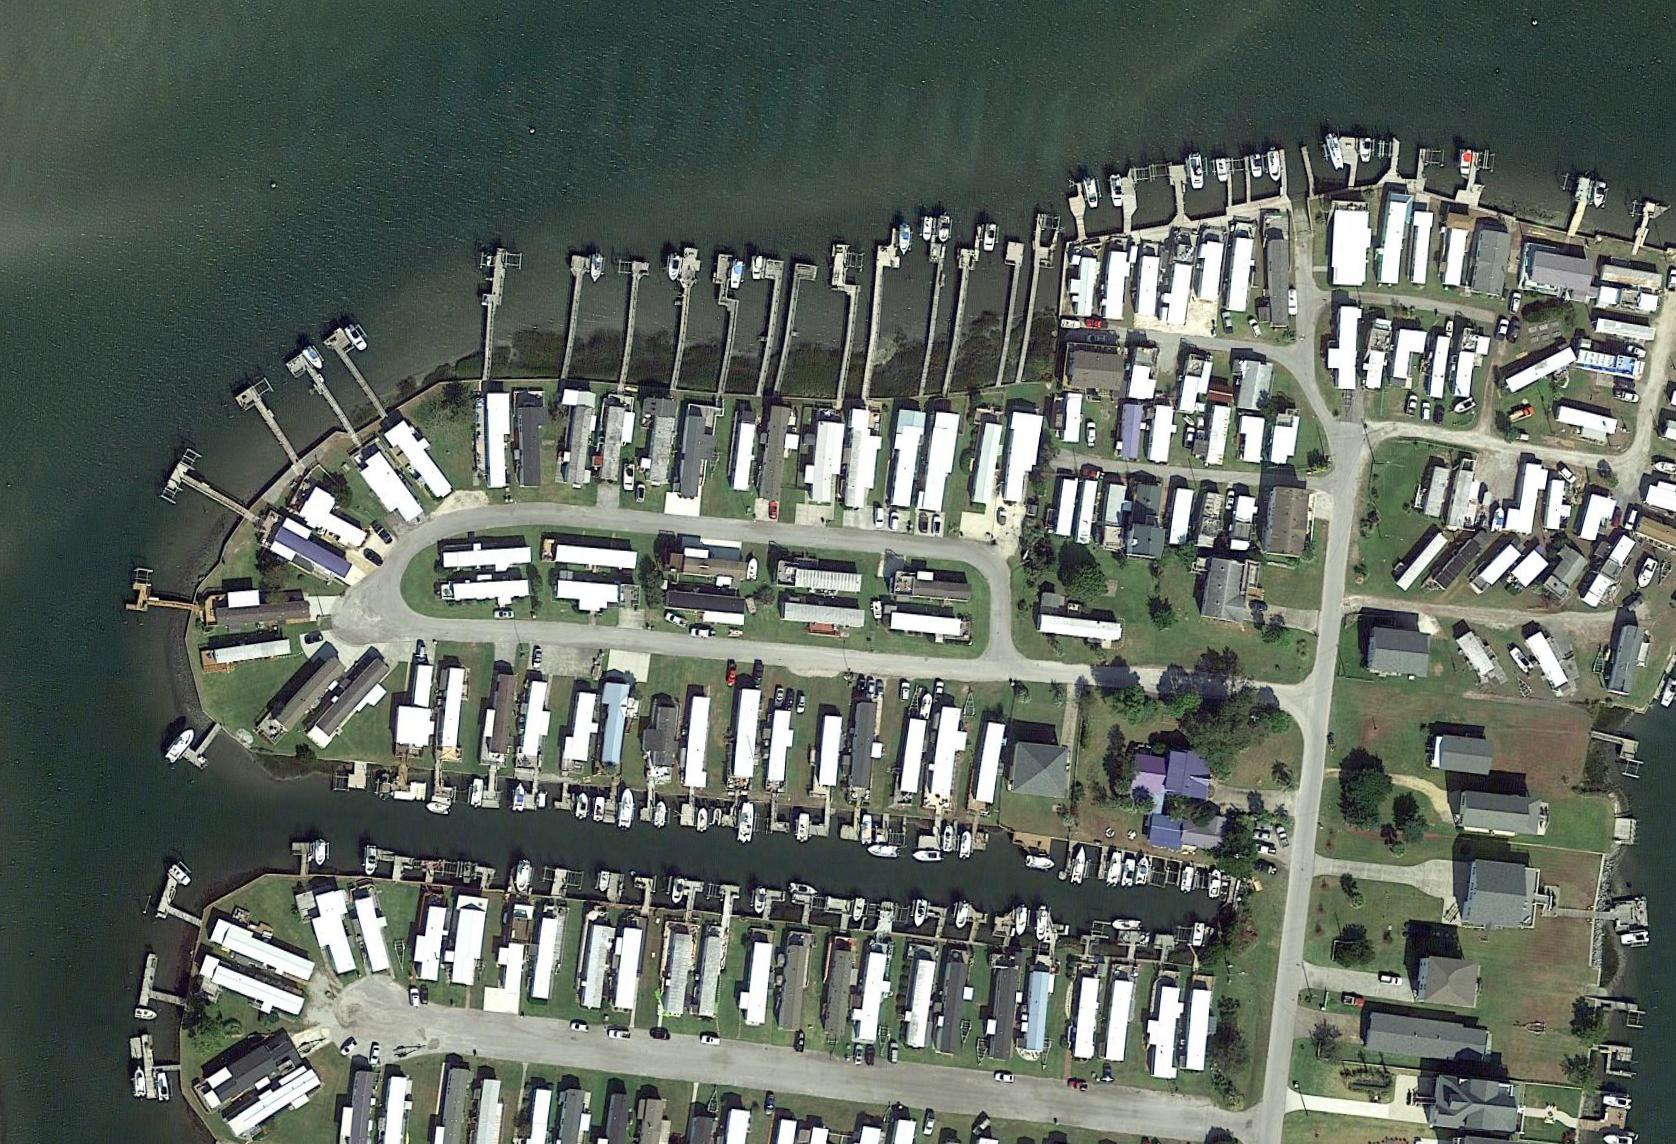harbor: (1063, 840, 1221, 906), (1015, 214, 1061, 380), (940, 220, 984, 389), (815, 245, 865, 395), (909, 217, 950, 392), (697, 255, 746, 394), (863, 228, 905, 391), (287, 353, 358, 448), (323, 327, 394, 420), (662, 247, 706, 387), (166, 462, 253, 531), (986, 241, 1026, 380), (744, 260, 785, 397), (1214, 149, 1294, 218), (776, 262, 819, 389), (236, 386, 301, 468), (555, 255, 593, 378), (475, 247, 508, 377), (616, 262, 651, 383), (155, 875, 211, 933), (1373, 136, 1428, 195), (139, 953, 190, 1014), (136, 1034, 181, 1098), (181, 715, 231, 771), (126, 582, 202, 618), (1454, 152, 1491, 206), (1007, 832, 1053, 871), (1330, 135, 1361, 189), (1566, 178, 1596, 236), (1066, 182, 1091, 240), (1118, 177, 1142, 232), (1076, 919, 1112, 955), (1168, 166, 1191, 223), (394, 764, 427, 803), (507, 856, 539, 896), (918, 808, 946, 852), (1631, 203, 1657, 248), (1298, 147, 1319, 197), (433, 759, 456, 805), (481, 766, 504, 810), (1116, 930, 1150, 959), (602, 778, 624, 824), (809, 797, 832, 838), (841, 803, 865, 841), (522, 769, 543, 812), (680, 787, 702, 827), (771, 795, 792, 833), (679, 880, 706, 911), (1153, 934, 1179, 964), (630, 876, 655, 910), (923, 906, 948, 939), (553, 782, 578, 813), (762, 890, 787, 921), (717, 884, 741, 916), (969, 814, 990, 851), (641, 782, 658, 823), (290, 845, 316, 870), (470, 865, 495, 890), (392, 855, 416, 882), (606, 873, 625, 904), (551, 869, 572, 898), (348, 762, 368, 789), (419, 860, 439, 884)
ship: (162, 724, 199, 766), (1323, 132, 1347, 172), (1634, 555, 1661, 590), (1507, 645, 1536, 675), (301, 341, 329, 373), (343, 324, 371, 355), (616, 787, 637, 831), (737, 801, 756, 843), (1070, 847, 1088, 885), (1188, 154, 1206, 192), (513, 860, 534, 892), (1084, 176, 1102, 211), (168, 864, 194, 888), (1105, 852, 1123, 887), (726, 259, 745, 290), (979, 223, 998, 254), (912, 898, 930, 930), (1449, 397, 1479, 417), (1591, 177, 1607, 210), (1617, 930, 1651, 947), (953, 899, 970, 930), (511, 782, 527, 814), (866, 845, 900, 860), (1267, 149, 1282, 183), (1026, 855, 1056, 873), (1179, 865, 1196, 896), (1133, 855, 1150, 885), (469, 778, 485, 809), (131, 1065, 146, 1097), (936, 215, 953, 245), (958, 831, 974, 860), (574, 792, 591, 822), (751, 887, 768, 916), (790, 882, 819, 898), (1121, 859, 1137, 888), (796, 814, 813, 843), (849, 897, 867, 924), (920, 692, 935, 722), (1111, 175, 1125, 208), (666, 256, 683, 284), (1192, 922, 1209, 950), (424, 799, 450, 817), (669, 879, 686, 904), (653, 800, 669, 829), (364, 847, 380, 876), (588, 254, 604, 283), (1601, 1096, 1633, 1110), (1248, 153, 1265, 180), (1035, 910, 1048, 944), (897, 223, 911, 254), (1012, 907, 1028, 935), (155, 1071, 169, 1102), (621, 464, 637, 492), (913, 848, 942, 862), (1493, 504, 1507, 534), (942, 826, 956, 854), (1112, 919, 1142, 931), (861, 815, 874, 846), (1209, 870, 1223, 897), (697, 805, 709, 834), (1459, 150, 1474, 176), (921, 217, 935, 242), (316, 840, 329, 868), (132, 1008, 158, 1022), (377, 775, 391, 800), (1215, 161, 1230, 183), (1286, 290, 1299, 317), (597, 870, 611, 894), (869, 599, 884, 620), (1358, 138, 1370, 163), (746, 555, 758, 580), (751, 259, 764, 280), (1062, 318, 1083, 331), (709, 808, 722, 828), (1182, 415, 1197, 429), (1443, 321, 1454, 338)
